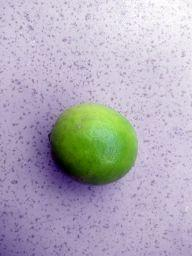lemon: (39, 92, 149, 189)
